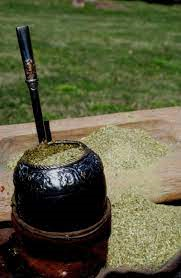mate: (13, 133, 113, 244)
metal: (11, 131, 111, 242)
